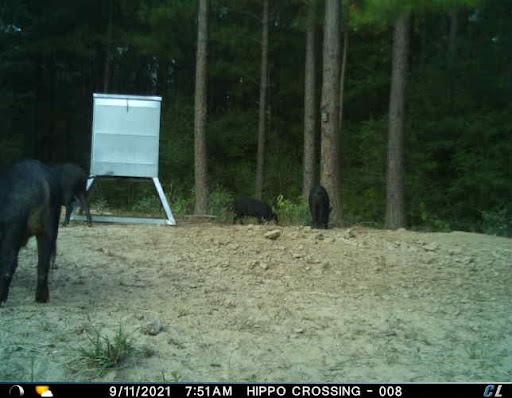Hog: (0, 153, 63, 313), (49, 154, 92, 230), (228, 190, 280, 232), (305, 177, 337, 232)
